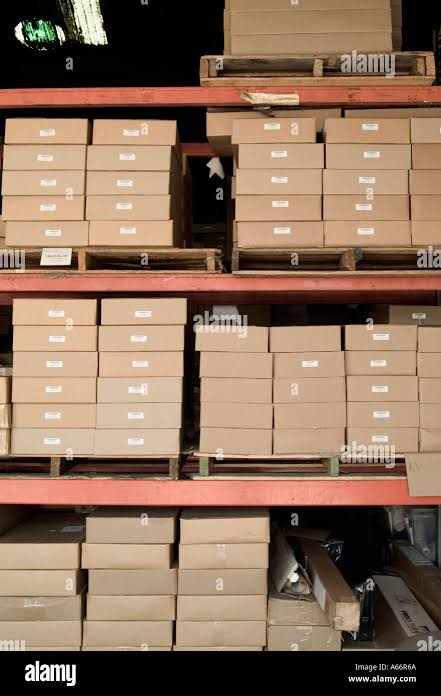box: (277, 596, 354, 650), (0, 529, 83, 571), (214, 115, 319, 148), (77, 512, 174, 546), (324, 112, 413, 147), (181, 515, 275, 547), (180, 540, 276, 571), (100, 322, 188, 355), (177, 569, 269, 600), (0, 140, 90, 170), (91, 142, 178, 173), (231, 192, 329, 219), (0, 593, 93, 621), (106, 295, 182, 329), (9, 326, 98, 355), (9, 375, 95, 404), (236, 167, 321, 196), (94, 217, 180, 245), (0, 117, 89, 144), (174, 620, 265, 646), (93, 169, 177, 197), (340, 322, 405, 358), (97, 357, 187, 383), (96, 407, 179, 435), (101, 116, 181, 145), (7, 299, 99, 324), (174, 597, 277, 619), (193, 375, 271, 404), (3, 169, 83, 197), (14, 420, 75, 456), (194, 322, 269, 351), (234, 146, 324, 170), (0, 219, 83, 245), (267, 320, 337, 350), (200, 426, 274, 454), (7, 622, 81, 650), (7, 195, 89, 220), (330, 170, 407, 196), (277, 377, 350, 404), (237, 225, 319, 249), (0, 569, 74, 595), (197, 407, 268, 434), (330, 146, 402, 172), (100, 380, 178, 404), (13, 355, 98, 377), (346, 406, 420, 431), (349, 375, 415, 403), (330, 222, 409, 245), (323, 197, 409, 218), (103, 433, 171, 459), (267, 353, 347, 375), (9, 406, 101, 425), (93, 200, 171, 222), (199, 355, 273, 377), (346, 429, 414, 452), (271, 432, 340, 454), (357, 350, 419, 374), (279, 409, 343, 430), (423, 406, 440, 447), (422, 323, 440, 355), (421, 380, 440, 406), (418, 357, 440, 378)
